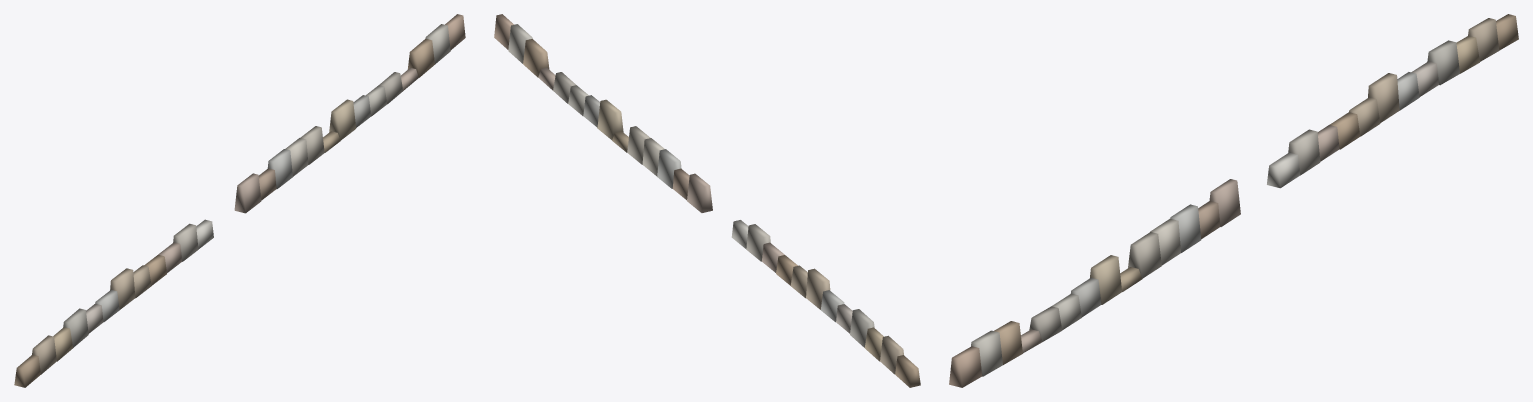
Rendered from farm_-9_7_collision.glb.
3 renders of one model, left to right at view 1: azimuth 90°, elevation 25°; view 2: azimuth 150°, elevation 25°; view 3: azimuth 270°, elevation 25°, orthographic. The views are drawn at different scales.
Visible parts, largest first — view 1: geometry_0; view 2: geometry_0; view 3: geometry_0.
Part boxes in pixels (x1,y1,x2,y2): geometry_0: [14, 14, 465, 387]; geometry_0: [494, 14, 920, 387]; geometry_0: [949, 14, 1518, 387].
Size of the model in its own units: 37.69 by 3.34 by 22.77.
